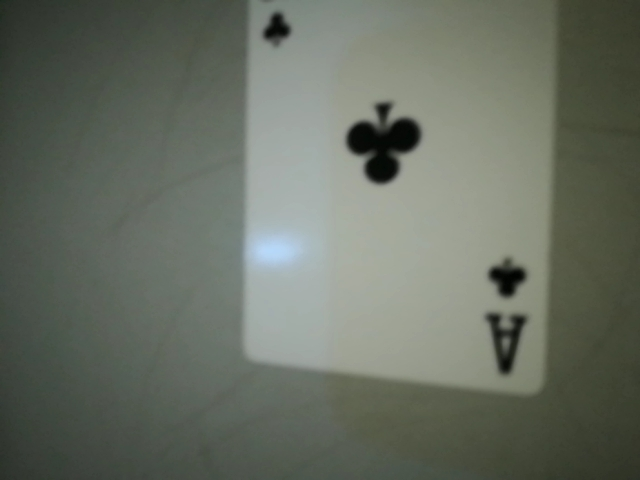mh a: (467, 242, 543, 389)
